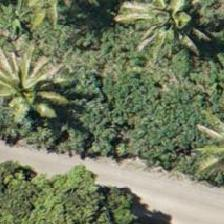coconut_tree: (0, 48, 63, 138), (124, 0, 214, 59)
